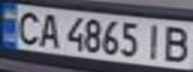4: (63, 14, 87, 52)
5: (118, 19, 142, 58)
6: (100, 18, 124, 56)
8: (81, 16, 103, 54)
A: (33, 11, 63, 48)
B: (157, 22, 193, 64)
C: (9, 8, 45, 46)
I: (139, 20, 169, 61)
